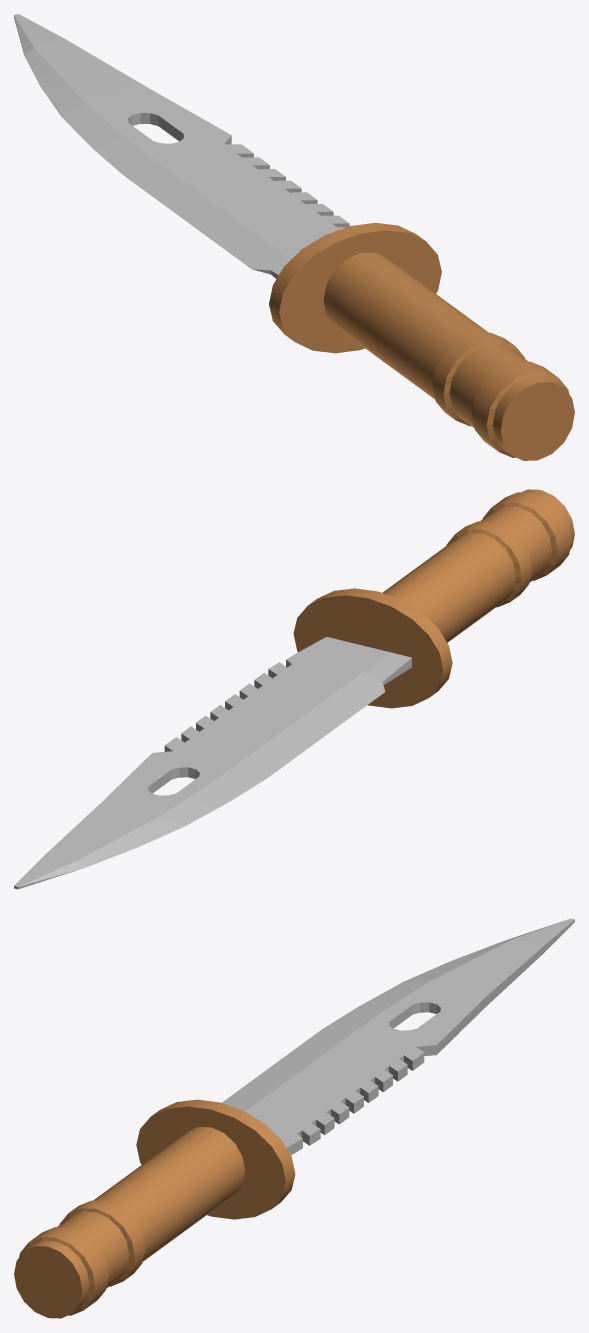
The model's file is knife1.fbx.
3 renders of one model, top to bottom at view 1: azimuth 30°, elevation 25°; view 2: azimuth 150°, elevation 25°; view 3: azimuth 330°, elevation 25°, orthographic. The views are drawn at different scales.
Parts seen in each view (by area): view 1: knife.001, knife.002, knife; view 2: knife.001, knife.002, knife; view 3: knife.001, knife.002, knife.
Part boxes in pixels (<box>): knife.001: <box>14,14,349,278</box>; knife.002: <box>323,252,574,460</box>; knife: <box>269,222,441,353</box>; knife.001: <box>14,636,411,889</box>; knife.002: <box>382,489,574,642</box>; knife: <box>293,588,452,708</box>; knife.001: <box>222,918,574,1155</box>; knife.002: <box>14,1127,245,1318</box>; knife: <box>136,1099,295,1219</box>.
Size of the model in its own units: 438 by 300 by 2547.
